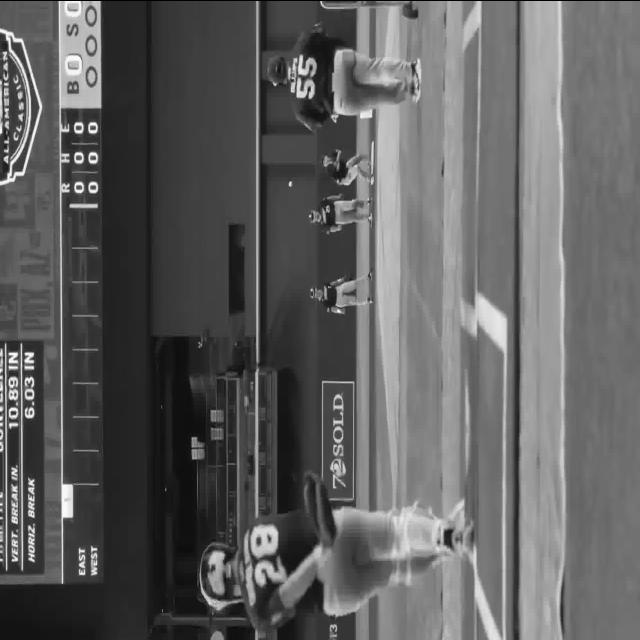base: (368, 130, 376, 197)
baseball: (288, 180, 292, 188)
baseball_glove: (302, 470, 336, 548)
shoe: (447, 519, 474, 557), (412, 58, 422, 102), (412, 58, 420, 75), (412, 92, 419, 104), (368, 212, 372, 228), (368, 270, 373, 281), (369, 174, 374, 185), (366, 197, 372, 205), (367, 296, 373, 304)
